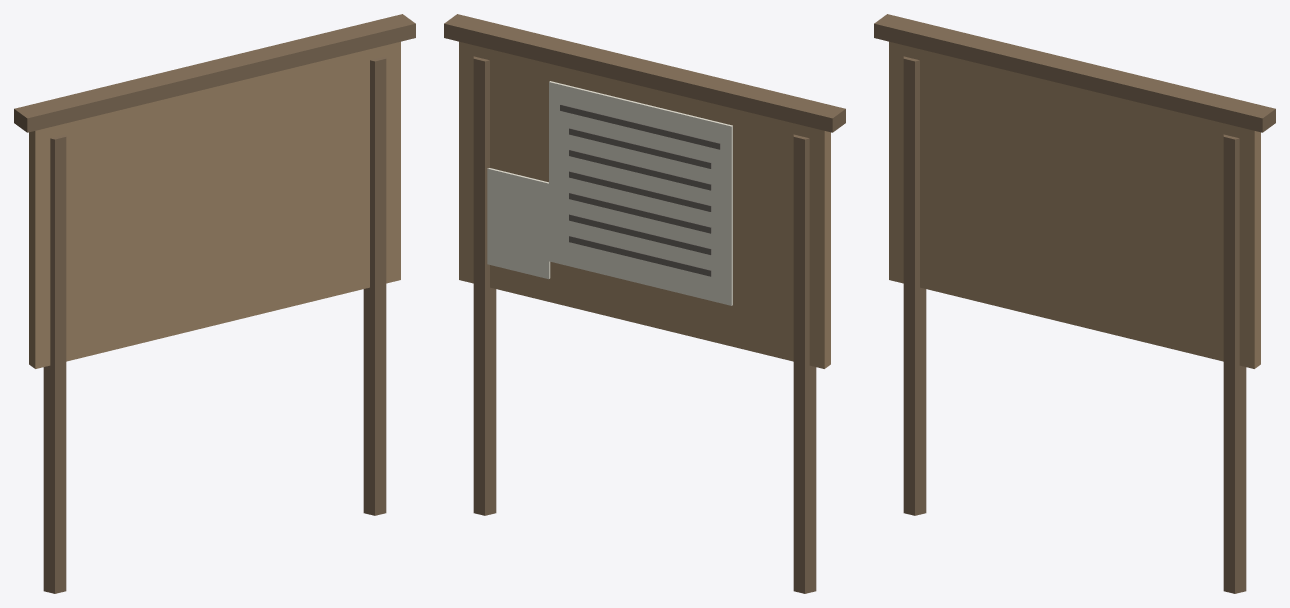
File: meeting_notice_board.glb
3 renders of one model, left to right at view 1: azimuth 30°, elevation 25°; view 2: azimuth 150°, elevation 25°; view 3: azimuth 330°, elevation 25°, orthographic.
Visible parts, largest first — view 1: wood, wood_dk; view 2: wood, poster, wood_dk, ink; view 3: wood, wood_dk.
Boxes of the visible parts, x1,y1,x2,y2 form: wood: [29, 41, 400, 368]; wood_dk: [14, 14, 415, 593]; wood: [459, 41, 830, 368]; poster: [487, 81, 732, 305]; wood_dk: [444, 14, 845, 593]; ink: [560, 104, 720, 276]; wood: [889, 41, 1260, 368]; wood_dk: [874, 14, 1275, 593].
Size of the model in its own units: 1.7 by 2.02 by 0.1.
